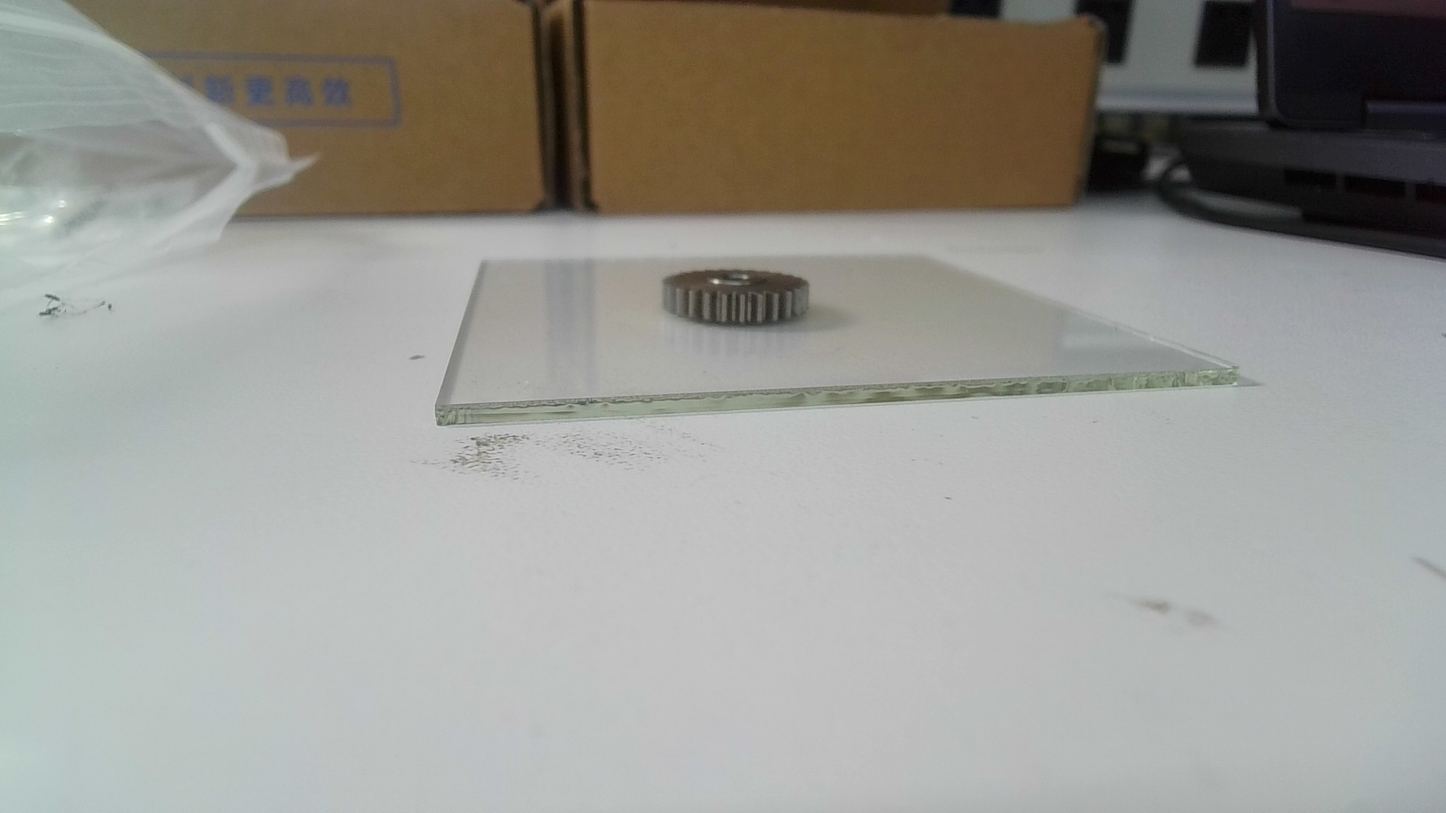gear: (658, 265, 812, 328)
